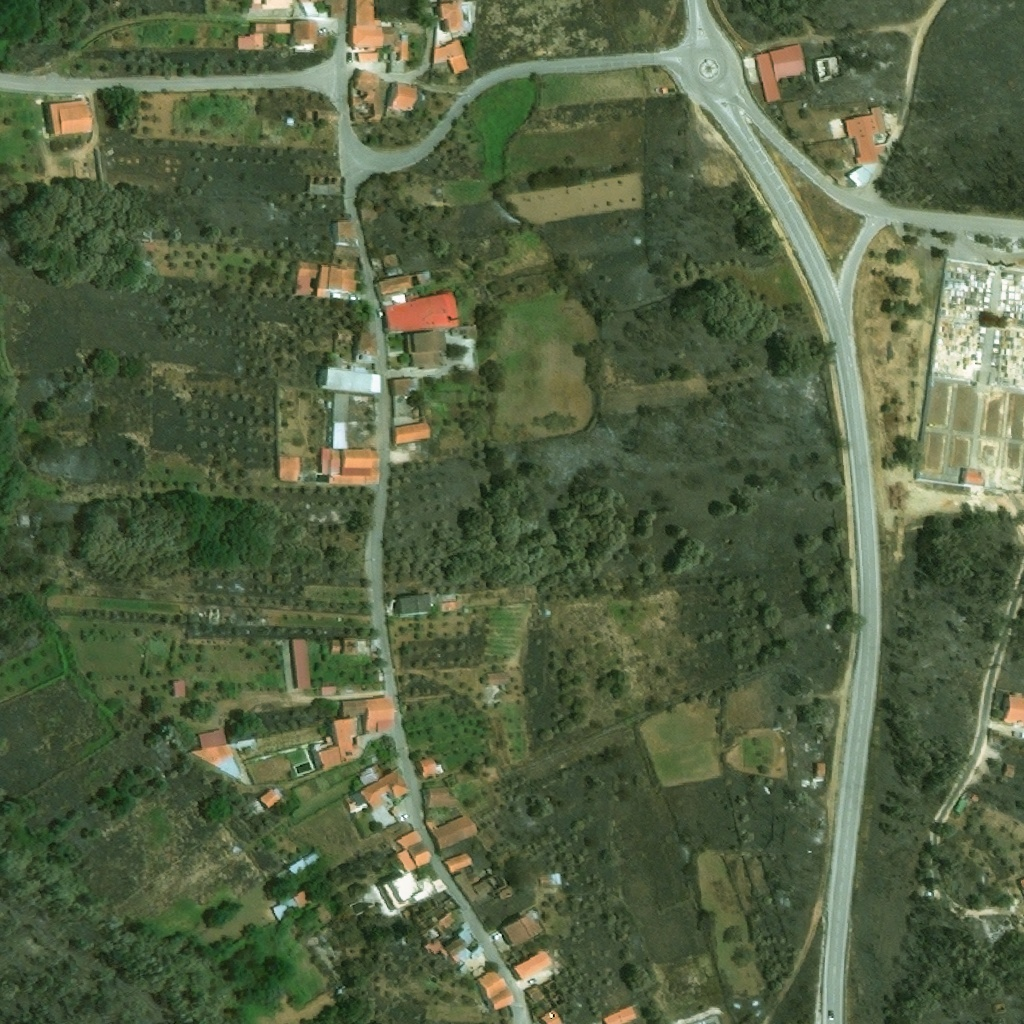0 no-damage: (384, 290, 459, 335), (190, 734, 257, 781), (844, 106, 886, 166), (381, 871, 447, 909), (359, 767, 409, 809), (349, 0, 394, 46), (424, 814, 475, 851), (330, 448, 379, 485), (319, 365, 380, 392), (394, 829, 432, 871), (48, 99, 91, 135), (755, 52, 782, 104), (770, 44, 806, 83), (511, 951, 551, 986), (329, 718, 360, 762), (364, 693, 394, 733), (290, 639, 312, 689), (457, 944, 490, 977), (393, 594, 438, 617), (501, 917, 531, 948), (387, 83, 419, 112), (407, 329, 447, 352), (394, 421, 430, 444), (315, 744, 344, 772), (327, 265, 355, 293), (425, 786, 457, 810), (439, 0, 463, 32), (269, 898, 299, 923), (294, 261, 316, 295), (432, 39, 464, 62), (315, 897, 342, 924), (519, 909, 545, 937), (332, 219, 357, 247), (487, 988, 515, 1013), (277, 454, 300, 483), (444, 935, 466, 965), (1002, 694, 1023, 724), (354, 765, 382, 787), (341, 448, 372, 467), (442, 853, 472, 872), (293, 886, 317, 909), (847, 167, 873, 188), (417, 757, 444, 777), (198, 729, 227, 747), (411, 350, 441, 367), (259, 787, 281, 809), (294, 21, 315, 43), (342, 697, 366, 716), (237, 33, 263, 50), (316, 264, 329, 298), (331, 421, 347, 448), (959, 468, 984, 485), (332, 393, 347, 421), (449, 54, 469, 74), (456, 927, 475, 947), (251, 22, 288, 32), (537, 1009, 563, 1023), (485, 670, 509, 685), (392, 378, 412, 395), (356, 638, 377, 654), (455, 325, 478, 339), (287, 858, 307, 874), (393, 39, 408, 60), (328, 448, 341, 472), (440, 598, 462, 611), (388, 804, 404, 820), (377, 717, 394, 732), (304, 852, 319, 866), (174, 679, 185, 698), (319, 685, 338, 696), (328, 638, 341, 653), (438, 589, 454, 600), (411, 405, 424, 418), (954, 800, 966, 814), (1004, 763, 1015, 778), (970, 792, 981, 803), (321, 459, 329, 473), (316, 36, 326, 47)
1 minor-damage: (473, 967, 511, 1001), (525, 984, 545, 1004), (341, 638, 356, 653)
2 major-damage: (377, 269, 433, 295), (418, 924, 448, 957), (814, 54, 845, 85), (357, 332, 379, 352), (438, 910, 458, 929), (334, 331, 355, 342), (538, 871, 550, 887), (550, 871, 562, 886), (813, 763, 825, 777)
3 destroyed: (350, 70, 387, 121), (474, 866, 515, 901), (453, 871, 484, 904), (307, 174, 342, 195), (986, 918, 1010, 944), (205, 607, 227, 629), (317, 107, 336, 124), (543, 977, 559, 994), (303, 107, 318, 123), (537, 607, 553, 620), (814, 776, 825, 791), (282, 115, 295, 127), (810, 818, 819, 831)
4 un-classified: (296, 0, 326, 16), (323, 0, 346, 16), (333, 984, 350, 1001), (264, 0, 292, 6), (952, 280, 964, 289), (942, 279, 952, 288), (250, 0, 261, 8)
